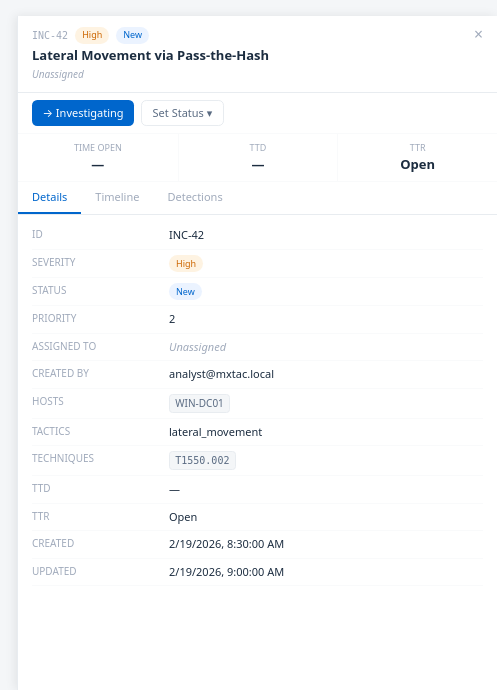
IncidentPanel › Set Status dropdown › shows a confirmation bar when a status is selected from dropdown
Step 1. Click the button "Set Status ▾" → click(182, 113), box [141,100,224,126]
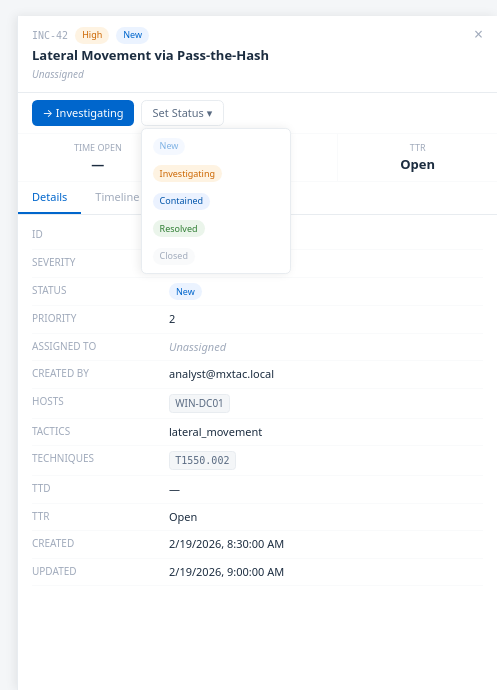
# Click "Contained" in the dropdown (not in header)
Step 2. Click the button "Contained" → click(216, 201), box [142,187,290,215]
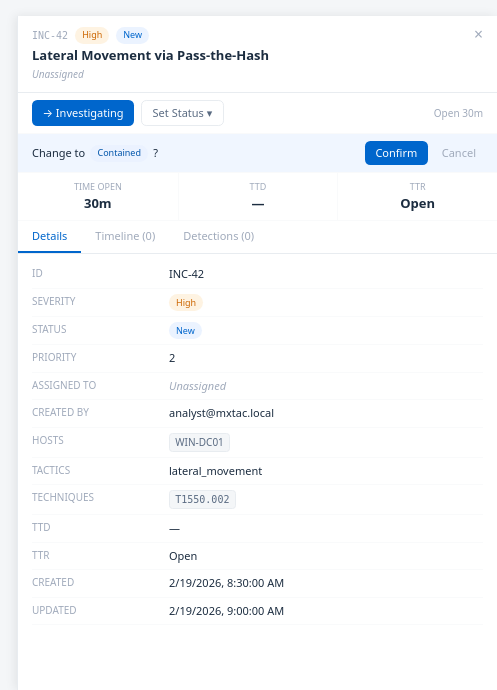
Now the element with test id "status-confirm-bar" is shown, box [18,134,496,173]
